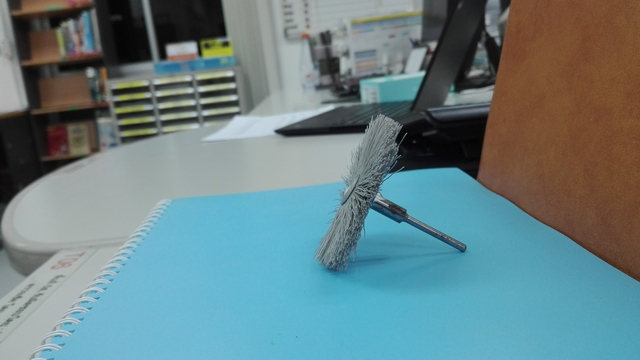TOOL: (282, 108, 493, 289), (303, 114, 437, 286)
